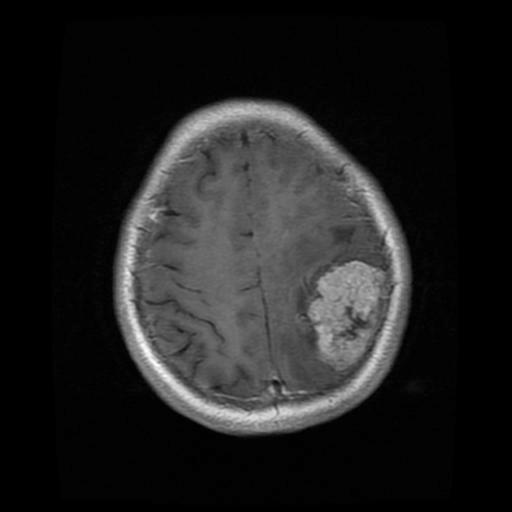Tumour-Meningioma: (271, 248, 405, 380)
